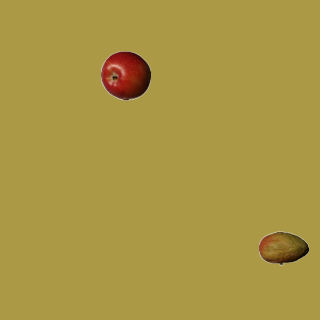Apple Braeburn: (100, 50, 150, 100)
Papaya: (258, 223, 308, 273)
